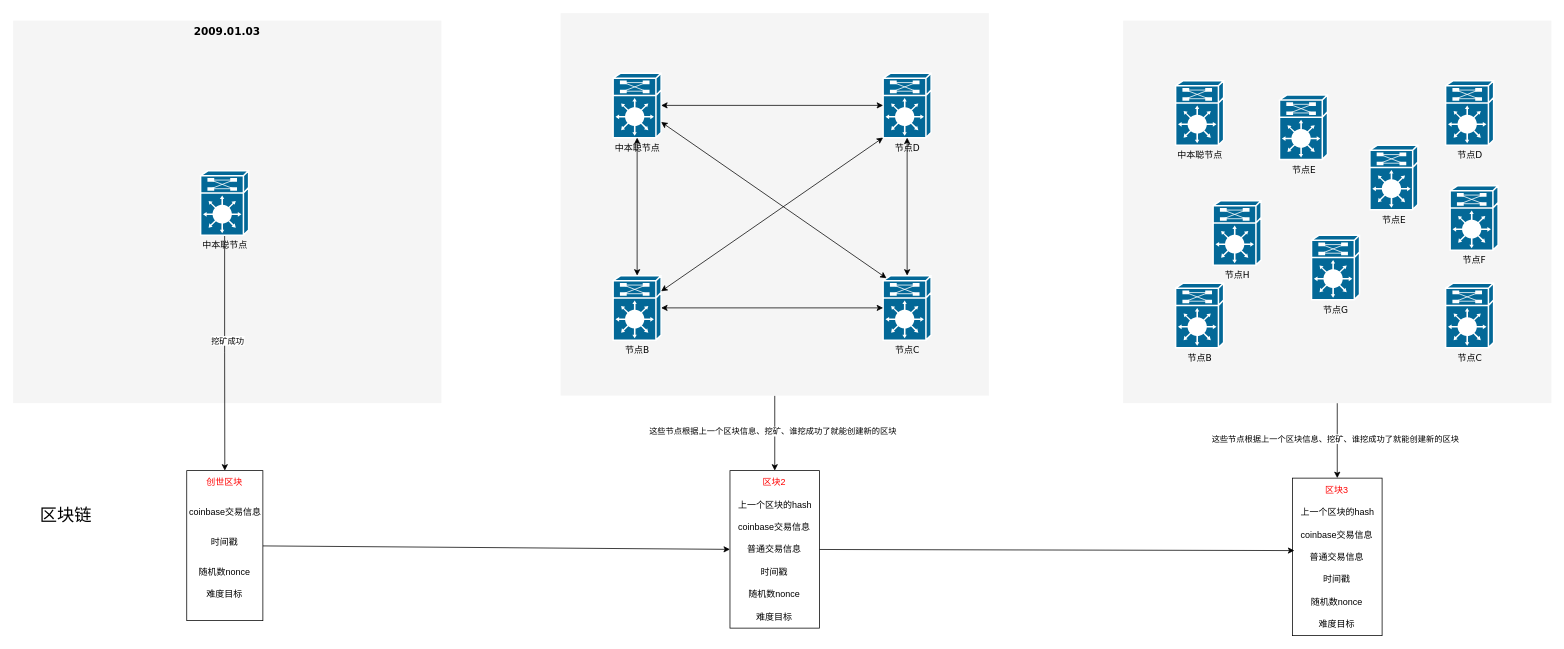
The diagram is 1564 pixels wide and 649 high, and some of its shapes have lost their labels. The box of each missing label's shape, as (x1, y1, x2, y2) in pixels:
创世日后一周: (560, 13, 988, 395)
创世日后一月: (1123, 20, 1551, 403)
